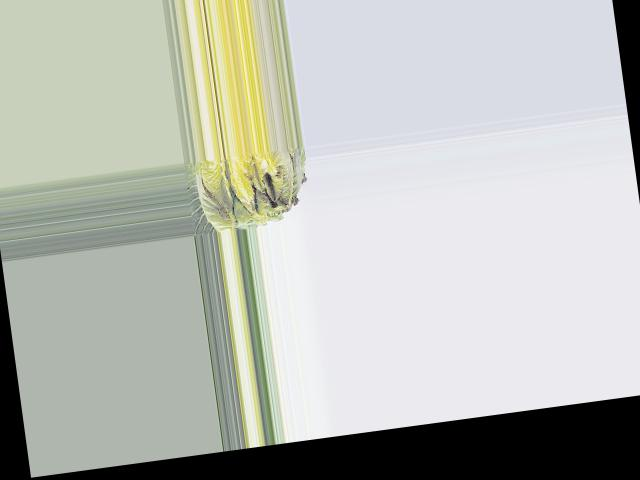lettuce: (183, 146, 309, 233)
